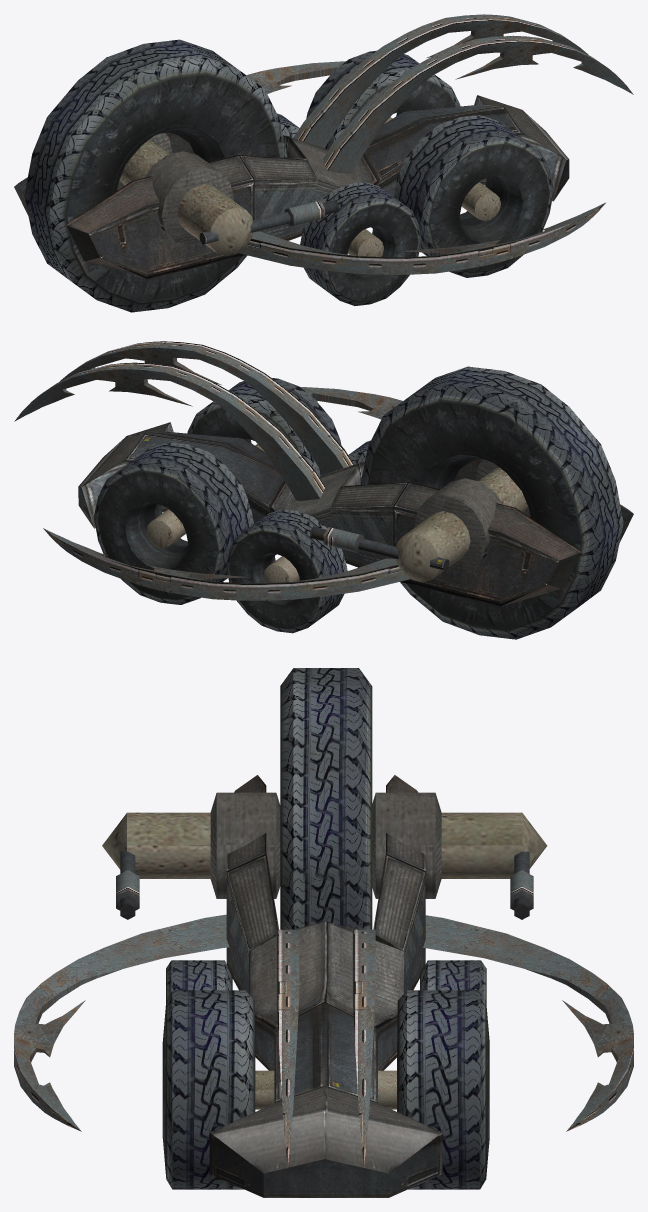
The model's file is soldier.obj.
3 renders of one model, top to bottom at view 1: azimuth 30°, elevation 25°; view 2: azimuth 150°, elevation 25°; view 3: azimuth 270°, elevation 25°, orthographic. The views are drawn at different scales.
Visible parts, largest first — view 1: polySurface2; view 2: polySurface2; view 3: polySurface2.
Part boxes in pixels (box(x1,y1,x2,y2)): polySurface2: box(14, 14, 633, 312); polySurface2: box(14, 341, 633, 639); polySurface2: box(14, 668, 633, 1197).
Bounding box in the file's own units: 12.68 × 5.12 × 8.96.
Materials: 1 (1 with a texture image).
